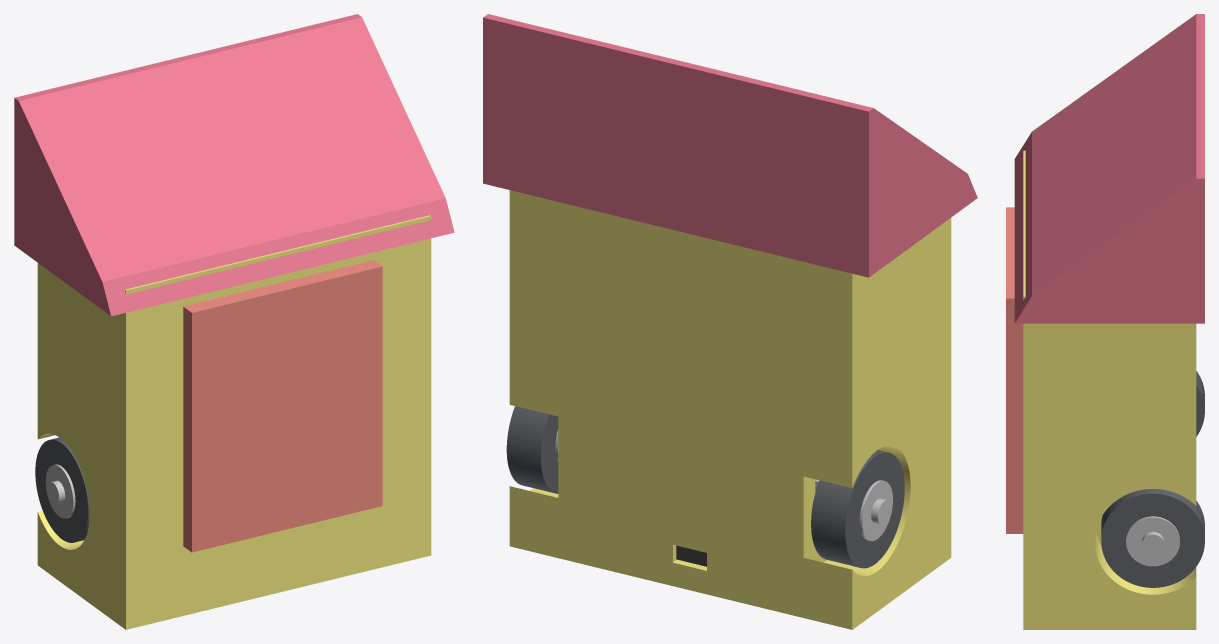
Rendered from antomic.glb.
3 renders of one model, left to right at view 1: azimuth 30°, elevation 25°; view 2: azimuth 150°, elevation 25°; view 3: azimuth 270°, elevation 25°, orthographic. The views are drawn at different scales.
Visible parts, largest first — view 1: scoop, chassis, frame, wheel_r0, dt_hub_wheel_r0; view 2: chassis, scoop, wheel_r0, wheel_l0, dt_hub_wheel_r0; view 3: scoop, chassis, wheel_l0, frame, dt_hub_wheel_l0, wheel_r0.
Boxes of the visible parts, <box> form: scoop: <box>14,14,454,316</box>; chassis: <box>37,215,431,629</box>; frame: <box>183,260,382,552</box>; wheel_r0: <box>35,437,89,542</box>; dt_hub_wheel_r0: <box>45,464,75,518</box>; chassis: <box>509,190,951,629</box>; scoop: <box>483,14,977,277</box>; wheel_r0: <box>811,450,904,568</box>; wheel_l0: <box>506,406,558,493</box>; dt_hub_wheel_r0: <box>859,480,892,541</box>; scoop: <box>1014,14,1204,323</box>; chassis: <box>1023,150,1196,629</box>; wheel_l0: <box>1101,489,1204,587</box>; frame: <box>1006,207,1023,533</box>; dt_hub_wheel_l0: <box>1126,516,1179,566</box>; wheel_r0: <box>1196,371,1204,436</box>.
Size of the model in its own units: 90 by 118 by 46.
